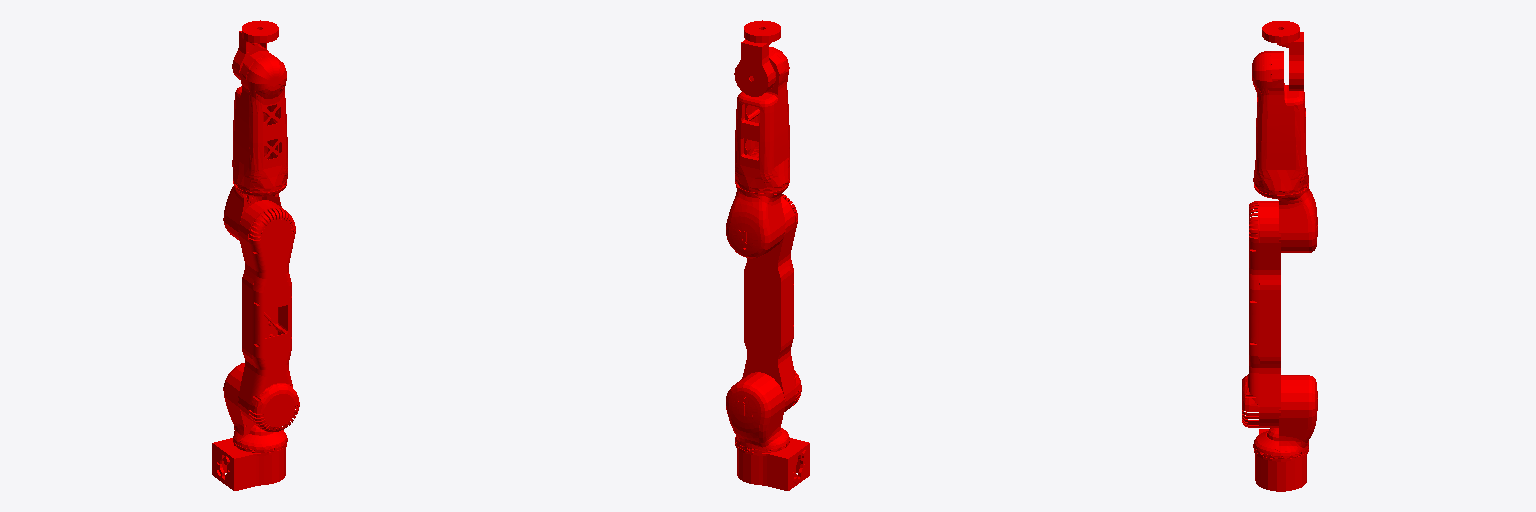
robot.urdf — teleop:
<?xml version="1.0" ?>
<!-- =================================================================================== -->
<!-- |    This document was autogenerated by xacro from teleop.urdf.xacro              | -->
<!-- |    EDITING THIS FILE BY HAND IS NOT RECOMMENDED                                 | -->
<!-- =================================================================================== -->
<robot name="teleop" xmlns:xacro="http://ros.org/wiki/xacro">
  <!-- 
  ROS urdf definition of the TELEOP robot by Istituto Italiano di Tecnologia
  
  DO NOT INCLUDE THIS FILE DIRECTLY! USE teleop_robot.urdf.xacro INSTEAD!

  Author: [author]

  Inertial matrix has to be in CoM frame (URDF specs)
-->
  <!-- 
  ROS urdf definition of the TELEOP robot by Istituto Italiano di Tecnologia
  
  DO NOT INCLUDE THIS FILE DIRECTLY! USE teleop_robot.urdf.xacro INSTEAD!

  Author: [author]

  Inertial matrix has to be in CoM frame (URDF specs)

-->
  <link name="base_link"/>
  <joint name="base_joint" type="fixed">
    <parent link="base_link"/>
    <child link="teleop_link0"/>
    <origin rpy="0 0 0" xyz="0 0 0"/>
  </joint>
  <material name="grey">
    <color rgba="0.5 0.5 0.5 1"/>
  </material>
  <material name="red">
    <color rgba="1.0 0.0 0.0 1"/>
  </material>
  <!-- DYNAMICS PARAMETERS NEEDS TO BE CHEKED! -->
  <link name="teleop_link0">
    <inertial>
      <origin rpy="0 0 0" xyz="0.0 0.0 0.0"/>
      <mass value="1.5"/>
      <inertia ixx="0.001" ixy="0.0" ixz="0.0" iyy="0.001" iyz="0.0" izz="0.001"/>
    </inertial>
    <visual>
      <origin rpy="1.57079632679 0 0" xyz="0 0 0"/>
      <geometry name="teleop_link0_visual">
        <mesh filename="package://teleop_urdf/meshes/_teleop_link0.stl" scale="0.001 0.001 0.001"/>
      </geometry>
      <material name="red"/>
    </visual>
    <collision>
      <origin rpy="1.57079632679 0 0" xyz="0 0 0"/>
      <geometry name="teleop_link0_collision">
        <mesh filename="package://teleop_urdf/meshes/simple/_teleop_link0.stl" scale="0.001 0.001 0.001"/>
      </geometry>
    </collision>
  </link>
  <link name="teleop_link1">
    <inertial>
      <origin rpy="0 0 0" xyz="0.0 -0.02 0.05"/>
      <mass value="0.3"/>
      <inertia ixx="0.001" ixy="0.0" ixz="0.0" iyy="0.001" iyz="0.0" izz="0.0008"/>
    </inertial>
    <visual>
      <origin rpy="1.57079632679 0 -1.57079632679" xyz="0 0 0"/>
      <geometry name="teleop_link1_visual">
        <mesh filename="package://teleop_urdf/meshes/_teleop_link1.stl" scale="0.001 0.001 0.001"/>
      </geometry>
      <material name="red"/>
    </visual>
    <collision>
      <origin rpy="1.57079632679 0 -1.57079632679" xyz="0 0 0"/>
      <geometry name="teleop_link1_collision">
        <mesh filename="package://teleop_urdf/meshes/simple/_teleop_link1.stl" scale="0.001 0.001 0.001"/>
      </geometry>
    </collision>
  </link>
  <link name="teleop_link2">
    <inertial>
      <origin rpy="0 0 0" xyz="0.0 0.01 0.18"/>
      <mass value="3.3"/>
      <inertia ixx="0.04" ixy="0.0" ixz="0.0" iyy="0.04" iyz="0.0" izz="0.01"/>
    </inertial>
    <visual>
      <origin rpy="1.57079632679 0 0" xyz="0 0 0"/>
      <geometry name="teleop_link2_visual">
        <mesh filename="package://teleop_urdf/meshes/_teleop_link2.stl" scale="0.001 0.001 0.001"/>
      </geometry>
      <material name="red"/>
    </visual>
    <collision>
      <origin rpy="1.57079632679 0 0" xyz="0 0 0"/>
      <geometry name="teleop_link2_collision">
        <mesh filename="package://teleop_urdf/meshes/simple/_teleop_link2.stl" scale="0.001 0.001 0.001"/>
      </geometry>
    </collision>
  </link>
  <link name="teleop_link3">
    <inertial>
      <origin rpy="0 0 0" xyz="0.0 -0.02 0.05"/>
      <mass value="0.3"/>
      <inertia ixx="0.001" ixy="0.0" ixz="0.0" iyy="0.001" iyz="0.0" izz="0.0008"/>
    </inertial>
    <visual>
      <origin rpy="1.57079632679 0 0" xyz="0 0 0"/>
      <geometry name="teleop_link3_visual">
        <mesh filename="package://teleop_urdf/meshes/_teleop_link3.stl" scale="0.001 0.001 0.001"/>
      </geometry>
      <material name="red"/>
    </visual>
    <collision>
      <origin rpy="1.57079632679 0 0" xyz="0 0 0"/>
      <geometry name="teleop_link3_collision">
        <mesh filename="package://teleop_urdf/meshes/simple/_teleop_link3.stl" scale="0.001 0.001 0.001"/>
      </geometry>
    </collision>
  </link>
  <link name="teleop_link4">
    <inertial>
      <origin rpy="0 0 0" xyz="0.0 0.0 0.1"/>
      <mass value="2.5"/>
      <inertia ixx="0.015" ixy="0.0" ixz="0.0" iyy="0.015" iyz="0.0" izz="0.008"/>
    </inertial>
    <visual>
      <origin rpy="1.57079632679 0 0" xyz="0 0 0"/>
      <geometry name="teleop_link4_visual">
        <mesh filename="package://teleop_urdf/meshes/_teleop_link4.stl" scale="0.001 0.001 0.001"/>
      </geometry>
      <material name="red"/>
    </visual>
    <collision>
      <origin rpy="1.57079632679 0 0" xyz="0 0 0"/>
      <geometry name="teleop_link4_collision">
        <mesh filename="package://teleop_urdf/meshes/simple/_teleop_link4.stl" scale="0.001 0.001 0.001"/>
      </geometry>
    </collision>
  </link>
  <!-- THIS TAKES INTO ACCOUNT THE HAND AS WELL! -->
  <link name="teleop_link5">
    <inertial>
      <origin rpy="0 0 0" xyz="0.0 0.0 0.1"/>
      <mass value="2"/>
      <inertia ixx="0.01" ixy="0.0" ixz="0.0" iyy="0.01" iyz="0.0" izz="0.01"/>
    </inertial>
    <visual>
      <origin rpy="1.57079632679 0 3.14159265359" xyz="0 0 0"/>
      <geometry name="teleop_link5_visual">
        <mesh filename="package://teleop_urdf/meshes/_teleop_link5.stl" scale="0.001 0.001 0.001"/>
      </geometry>
      <material name="red"/>
    </visual>
    <collision>
      <origin rpy="1.57079632679 0 3.14159265359" xyz="0 0 0"/>
      <geometry name="teleop_link5_collision">
        <mesh filename="package://teleop_urdf/meshes/simple/_teleop_link5.stl" scale="0.001 0.001 0.001"/>
      </geometry>
    </collision>
  </link>
  <!-- THIS IN NOT EXACT, TODO: BETTER VALUES HERE -->
  <!--link name ="teleop_link5">
    <inertial>
      <origin xyz="0.0 ${-20*mmTom} ${50*mmTom}" rpy="0 0 0"/>
      <mass value="0.3"/>
      <inertia ixx="${1e+03*mm2Tom2}"  ixy="0.0"  ixz="0.0" iyy="${1e+03*mm2Tom2}" iyz="0.0" izz="${800*mm2Tom2}" />
    </inertial>
    <visual>
      <origin xyz="0 0 0" rpy="${PI_2} 0 ${PI}"/>
      <geometry name="teleop_link5_visual">
        <mesh filename="package://teleop_urdf/meshes/_teleop_link5.stl" scale="0.001 0.001 0.001" />
      </geometry>
      <material name="red"/>
    </visual>
    <collision>
      <origin xyz="0 0 0" rpy="${PI_2} 0 ${PI}"/>
      <geometry name="teleop_link5_collision">
        <mesh filename="package://teleop_urdf/meshes/simple/_teleop_link5.stl" scale="0.001 0.001 0.001" />
      </geometry>             
    </collision>
</link-->
  <joint name="joint1" type="revolute">
    <parent link="teleop_link0"/>
    <child link="teleop_link1"/>
    <origin rpy="0 0 0" xyz="0.0 0 0"/>
    <axis xyz="0 0 1"/>
    <limit effort="55" lower="-1.75" upper="1.75" velocity="11.7"/>
    <dynamics damping="0.03" friction="0"/>
  </joint>
  <joint name="joint2" type="revolute">
    <parent link="teleop_link1"/>
    <child link="teleop_link2"/>
    <origin rpy="0 0 0" xyz="0 0 0.1315"/>
    <axis xyz="0 1 0"/>
    <limit effort="147" lower="-2.15" upper="2.15" velocity="5.2"/>
    <dynamics damping="0.03" friction="0"/>
  </joint>
  <joint name="joint3" type="revolute">
    <parent link="teleop_link2"/>
    <child link="teleop_link3"/>
    <origin rpy="0 0 0" xyz="0 0 0.365"/>
    <axis xyz="0 1 0"/>
    <limit effort="127" lower="-2.15" upper="2.15" velocity="8.1"/>
    <dynamics damping="0.03" friction="0"/>
  </joint>
  <joint name="joint4" type="revolute">
    <parent link="teleop_link3"/>
    <child link="teleop_link4"/>
    <origin rpy="0 0 0" xyz="0 0 0.1"/>
    <axis xyz="0 0 1"/>
    <limit effort="28" lower="-2.79" upper="2.79" velocity="20.4"/>
    <dynamics damping="0.03" friction="0"/>
  </joint>
  <joint name="joint5" type="revolute">
    <parent link="teleop_link4"/>
    <child link="teleop_link5"/>
    <origin rpy="0 0 0" xyz="0 0 0.226"/>
    <axis xyz="0 1 0"/>
    <limit effort="28" lower="-1.83" upper="1.83" velocity="20.4"/>
    <dynamics damping="0.03" friction="0"/>
  </joint>
  <link name="world"/>
  <joint name="world_joint" type="fixed">
    <parent link="world"/>
    <child link="base_link"/>
  </joint>
  <origin rpy="0 0 0" xyz="0 0 0.05"/>
  <link name="TCP"/>
  <joint name="TCP_joint" type="fixed">
    <parent link="teleop_link5"/>
    <child link="TCP"/>
    <origin rpy="0 0 0" xyz="0 0 0.17"/>
  </joint>
</robot>

--- Facts derived from the render (not from the file) ---
Views: 3 orthographic renders of the robot side by side, from view 1: azimuth 30°, elevation 25°; view 2: azimuth 150°, elevation 25°; view 3: azimuth 270°, elevation 25°.
Model teleop with 9 links and 8 joints (5 revolute, 3 fixed), rooted at world, posed all joints at 0.
Links seen in each view (by area): view 1: teleop_link2, teleop_link4, teleop_link0, teleop_link1, teleop_link3, teleop_link5; view 2: teleop_link2, teleop_link4, teleop_link1, teleop_link3, teleop_link0, teleop_link5; view 3: teleop_link2, teleop_link4, teleop_link1, teleop_link3, teleop_link0, teleop_link5.
Link boxes in pixels (<box>): teleop_link2: <box>238,200,299,431</box>; teleop_link4: <box>232,51,287,190</box>; teleop_link0: <box>212,438,287,490</box>; teleop_link1: <box>223,363,287,449</box>; teleop_link3: <box>223,181,286,240</box>; teleop_link5: <box>232,20,278,79</box>; teleop_link2: <box>742,194,801,411</box>; teleop_link4: <box>735,47,789,190</box>; teleop_link1: <box>726,372,789,449</box>; teleop_link3: <box>726,180,789,258</box>; teleop_link0: <box>735,437,809,490</box>; teleop_link5: <box>734,20,780,96</box>; teleop_link2: <box>1242,201,1280,427</box>; teleop_link4: <box>1252,51,1308,193</box>; teleop_link1: <box>1253,375,1317,455</box>; teleop_link3: <box>1254,183,1317,252</box>; teleop_link0: <box>1253,429,1308,491</box>; teleop_link5: <box>1262,21,1303,90</box>.
Size in the robot's own frame: 0.14 by 0.1455 by 0.9465 metres.
Meshes: 6 distinct files referenced, 6 mesh visuals loaded (6 binary STL).
